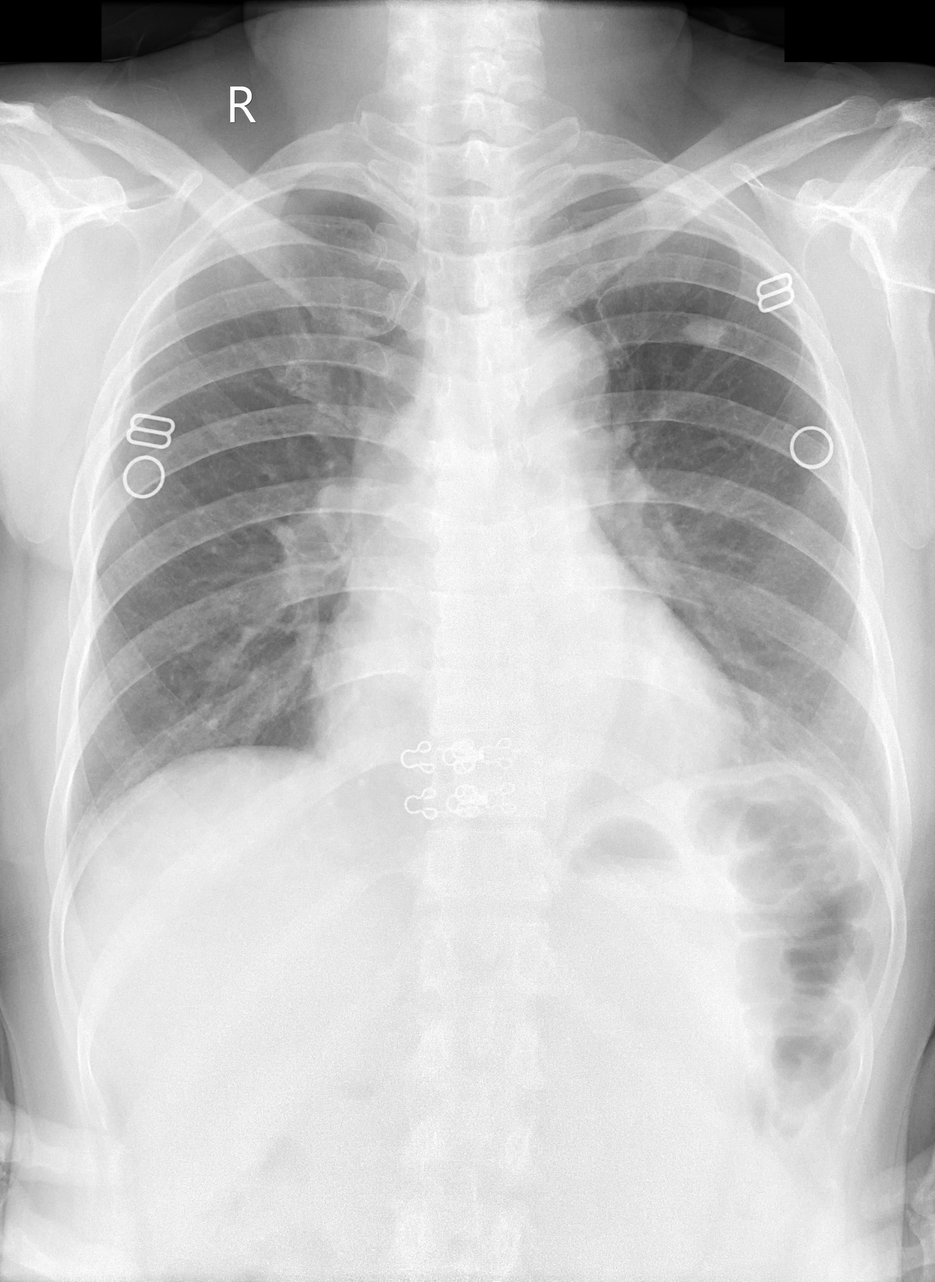Aortic enlargement: (488, 309, 606, 429)
